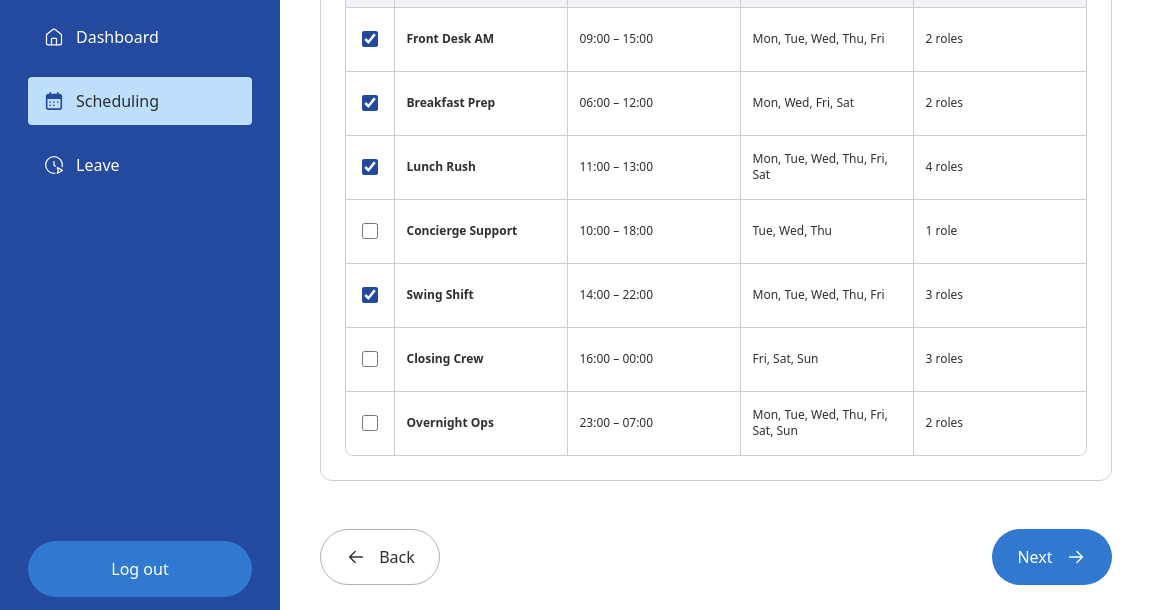
Test: Create Schedule: the department's constraints › given_keysHeldAtTheDepartmentOnly_when_onItsConstraints_then_eachActionFollowsItsOwnKeyThere
(page scrolled)
Expected: the row "Front Desk AM 09:00 – 15:00 Mon, Tue, Wed, Thu, Fri 2 roles" is shown, [346, 7, 1086, 71]
Click the button "Next".
click(1052, 557)  # box [992, 529, 1112, 585]
(page scrolled)
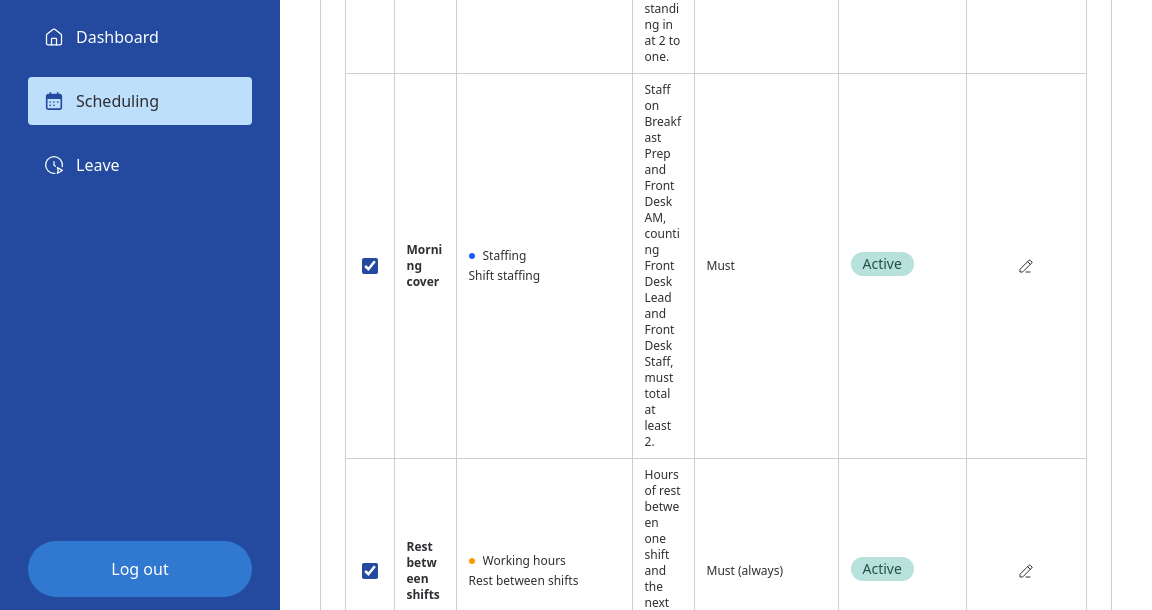
Result: the row "Morning cover" is shown at [346, 73, 1086, 458]
Result: the button named "Edit Morning cover" is shown at [1008, 248, 1044, 284]
